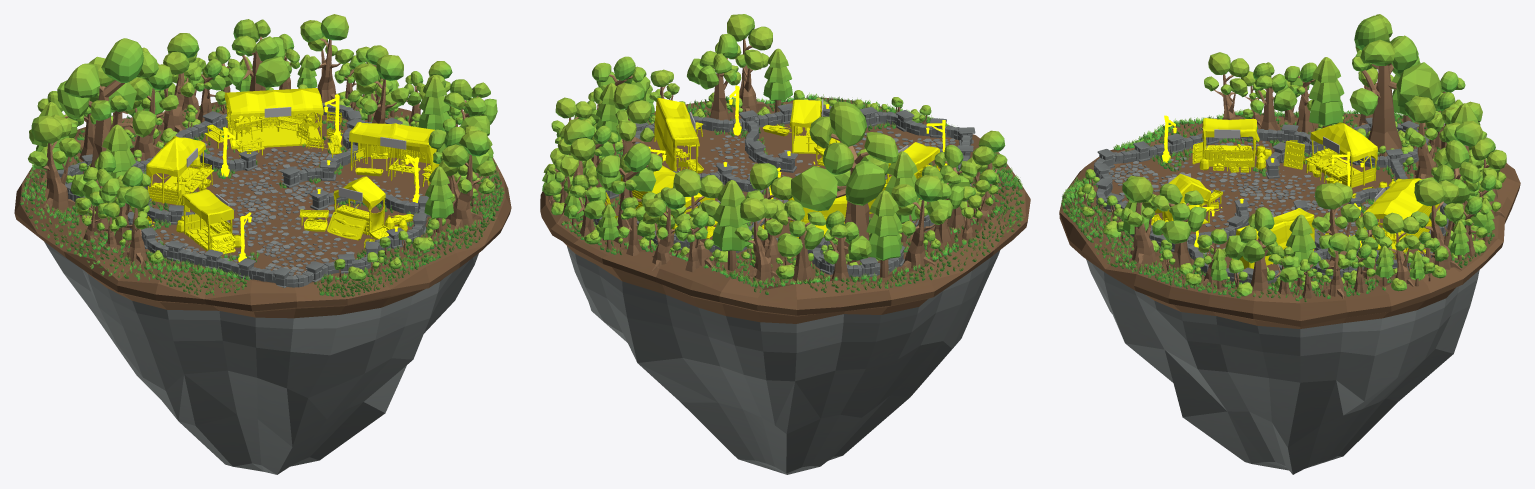
3 renders of one model, left to right at view 1: azimuth 30°, elevation 25°; view 2: azimuth 150°, elevation 25°; view 3: azimuth 270°, elevation 25°, orthographic. The views are drawn at different scales.
Parts seen in each view (by area): view 1: Island, tree_02, weapon_market, tree_02__2_, tree_01__9_, tree_01__2_, tree_01__7_, MeatMarket, BakeryMarket, tree_01, VegetableMarket__1_, tree_01__5_ (+20 smaller); view 2: Island, tree_02, tree_02__2_, tree_01__9_, tree_02__1_, tree_01__2_, tree_02__5_, tree_01__6_, MeatMarket, tree_03__5_, tree_03, tree_01__5_ (+26 smaller); view 3: Island, tree_02, tree_02__1_, BakeryMarket, tree_01__7_, tree_02__12_, tree_01__2_, tree_02__2_, tree_01__1_, tree_03__1_, weapon_market, tree_02__7_ (+23 smaller).
Part boxes in pixels (x1,y1,x2,y2): Island: (14,98,511,474); tree_02: (57,38,158,167); weapon_market: (224,88,323,149); tree_02__2_: (227,19,290,91); tree_01__9_: (28,114,80,210); tree_01__2_: (439,130,495,230); tree_01__7_: (300,14,353,104); MeatMarket: (349,122,439,176); BakeryMarket: (146,136,205,205); tree_01: (353,54,409,123); VegetableMarket__1_: (181,189,233,250); tree_01__5_: (156,33,199,132); Island: (540,97,1030,474); tree_02: (791,101,898,264); tree_02__2_: (596,143,662,244); tree_01__9_: (891,175,948,271); tree_02__1_: (687,33,741,120); tree_01__2_: (727,14,772,113); tree_02__5_: (775,200,825,281); tree_01__6_: (734,198,782,279); MeatMarket: (654,98,699,172); tree_03__5_: (866,190,902,277); tree_03: (712,180,751,270); tree_01__5_: (667,169,723,268); Island: (1059,113,1520,474); tree_02: (1349,14,1441,156); tree_02__1_: (1151,183,1206,268); BakeryMarket: (1310,122,1377,188); tree_01__7_: (1410,179,1463,270); tree_02__12_: (1224,207,1278,291); tree_01__2_: (1121,175,1160,267); tree_02__2_: (1414,140,1480,238); tree_01__1_: (1404,96,1444,179); tree_03__1_: (1308,57,1344,128); weapon_market: (1363,178,1440,252); tree_02__7_: (1250,62,1297,130).
Bounding box in the file's own units: 35.49 × 34.21 × 35.03.
8 materials, 7 textured.
